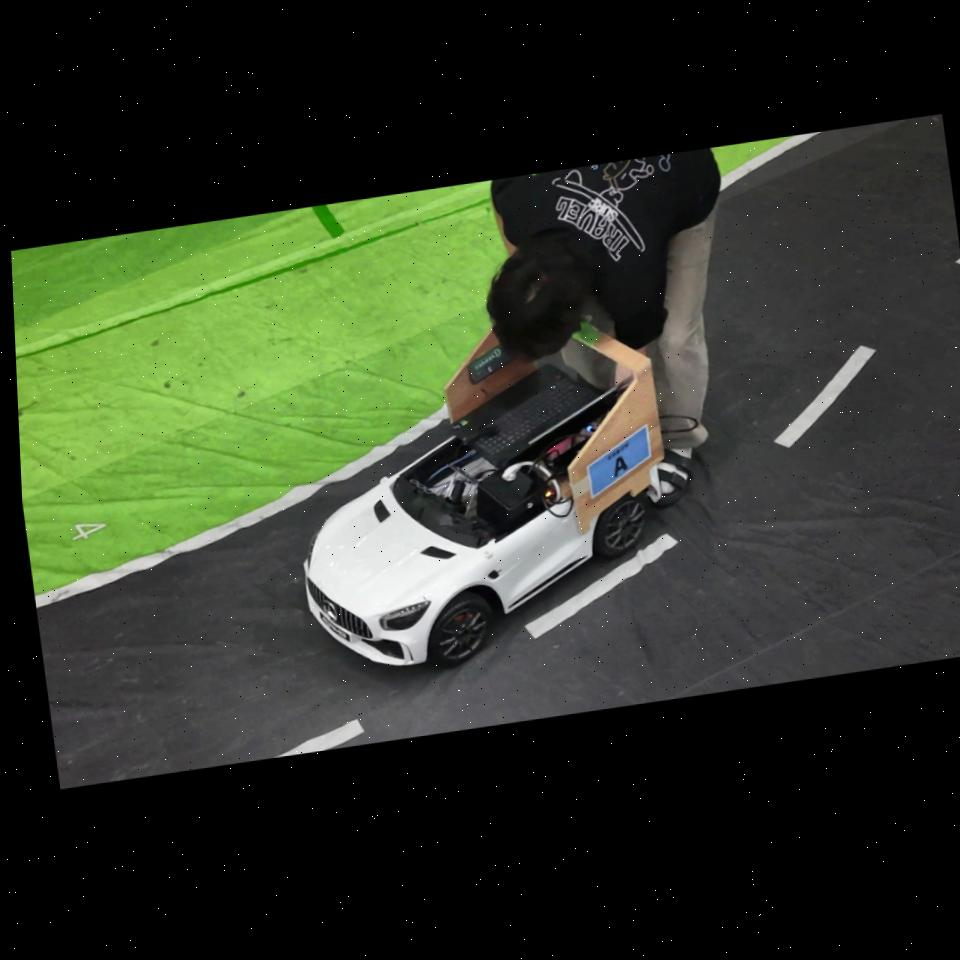broken_line: (525, 534, 677, 638), (775, 346, 875, 447), (277, 720, 364, 757)
